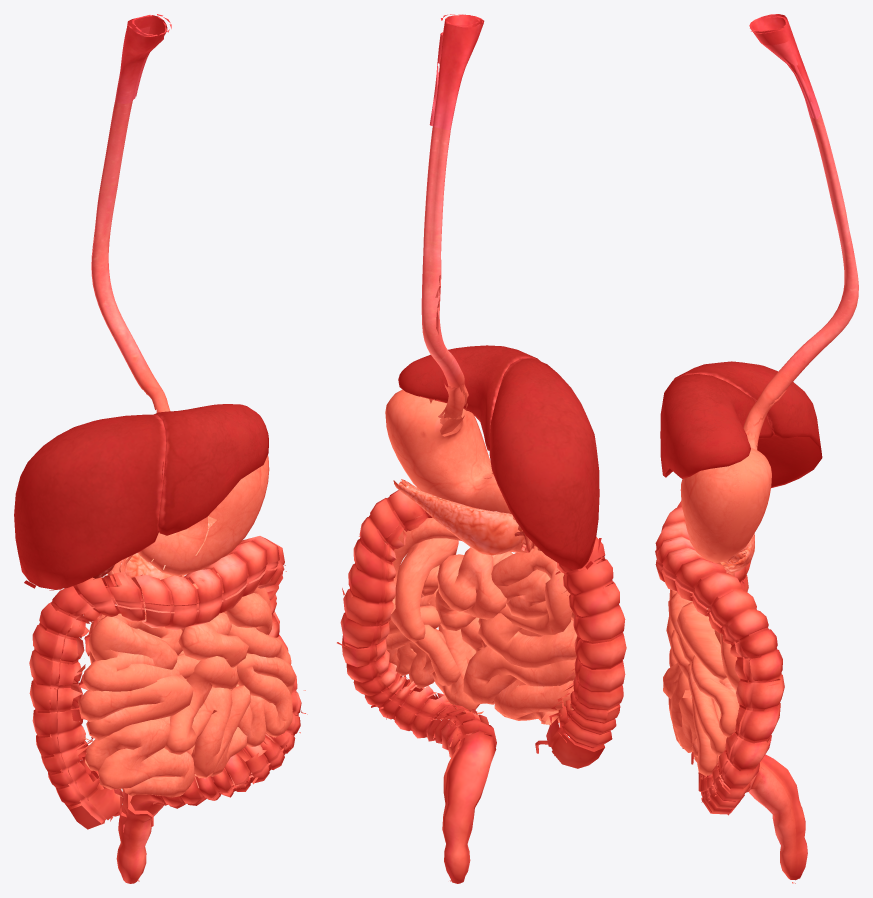
File: people1.glb
3 views of the same model, side by side, from view 1: azimuth 30°, elevation 25°; view 2: azimuth 150°, elevation 25°; view 3: azimuth 270°, elevation 25° (orthographic).
Parts seen in each view (by area): view 1: ruot_non, gan, ruot_GIA, ong_tho, da_day; view 2: ruot_non, ruot_GIA, gan, da_day, ong_tho, tuy_tang; view 3: ruot_GIA, gan, ruot_non, da_day, ong_tho.
Boxes of the visible parts, x1,y1,x2,y2 form: ruot_non: [59, 14, 307, 881]; gan: [14, 404, 268, 589]; ruot_GIA: [24, 522, 301, 883]; ong_tho: [91, 15, 170, 412]; da_day: [107, 455, 269, 579]; ruot_non: [337, 14, 604, 881]; ruot_GIA: [340, 473, 626, 883]; gan: [398, 345, 599, 569]; da_day: [385, 389, 540, 550]; ong_tho: [421, 15, 484, 434]; tuy_tang: [393, 480, 523, 555]; ruot_GIA: [655, 501, 807, 880]; gan: [660, 361, 822, 487]; ruot_non: [663, 16, 817, 883]; da_day: [680, 447, 771, 565]; ong_tho: [743, 14, 858, 449].
Bounding box in the file's own units: 74.36 × 221 × 47.43.
1 material, 1 textured.
